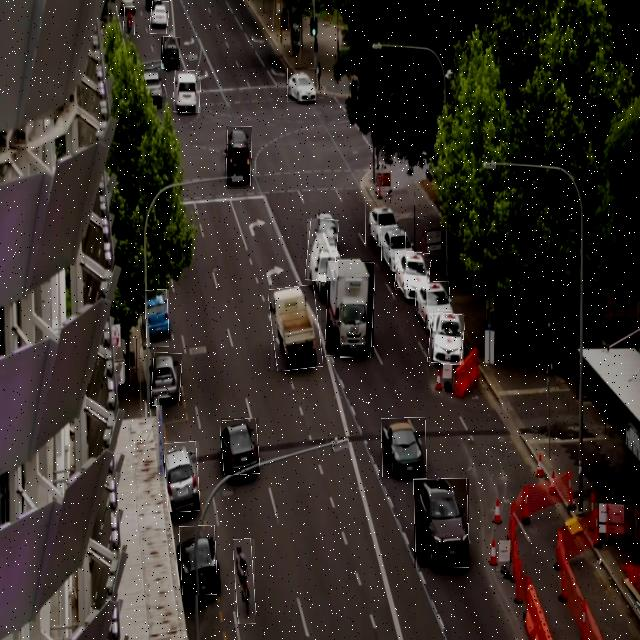Car: (414, 479, 469, 568), (382, 418, 426, 479), (180, 526, 217, 595), (165, 441, 199, 512), (221, 418, 259, 474), (429, 313, 464, 365), (226, 126, 252, 189), (152, 353, 182, 406), (395, 251, 430, 290), (146, 290, 169, 347), (365, 200, 394, 244), (174, 71, 200, 113), (287, 68, 316, 102), (416, 282, 450, 311), (382, 227, 406, 265), (144, 70, 166, 104), (150, 1, 169, 34), (161, 37, 180, 68)
Motorcycle: (234, 539, 255, 624), (124, 6, 135, 35)
Truck: (326, 262, 374, 358), (271, 286, 321, 371), (307, 219, 338, 281)
